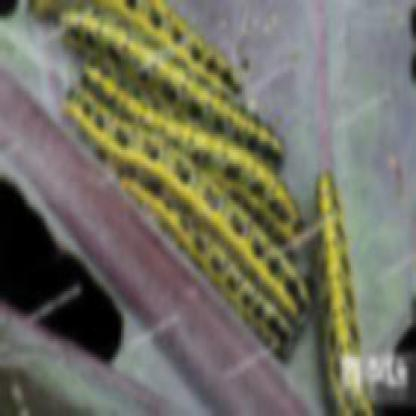pieris: (61, 79, 315, 327), (79, 56, 306, 241), (59, 1, 285, 156)
